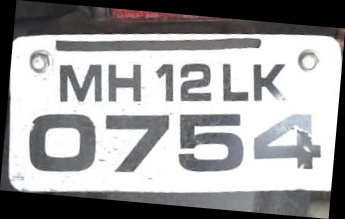character: (27, 113, 95, 172), (179, 112, 244, 172), (253, 112, 321, 169), (104, 113, 169, 170), (58, 63, 103, 104), (106, 62, 142, 101), (253, 62, 287, 101), (179, 62, 211, 101), (221, 62, 249, 100), (157, 62, 174, 101)
